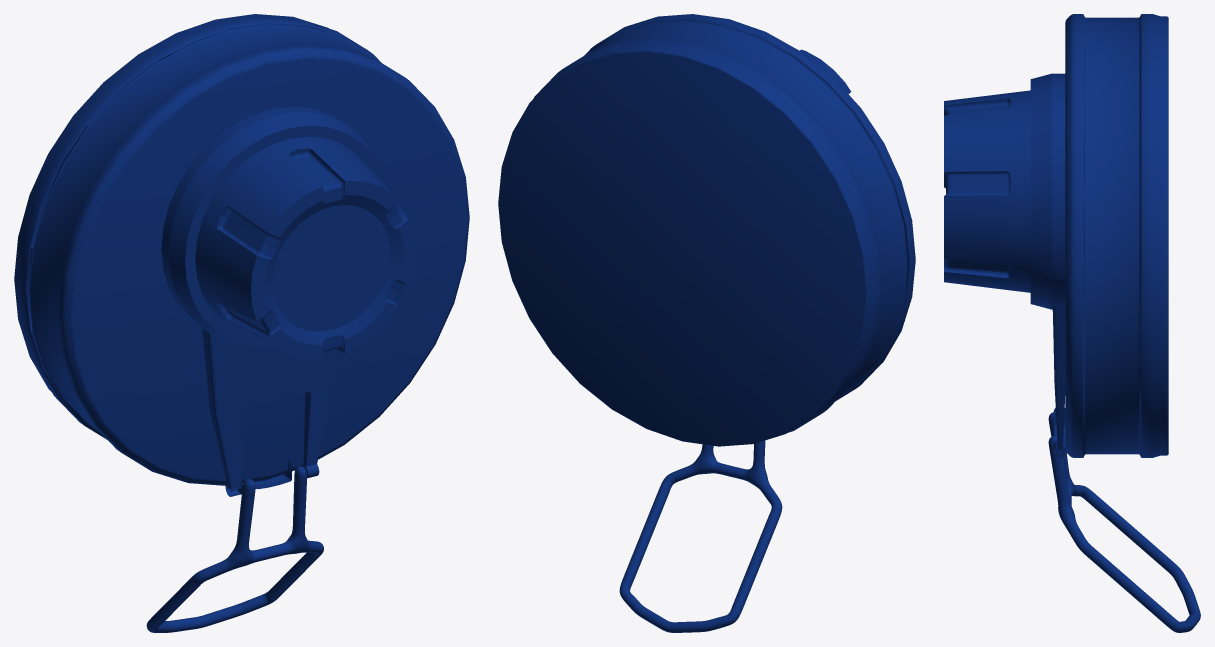
3 renders of one model, left to right at view 1: azimuth 30°, elevation 25°; view 2: azimuth 150°, elevation 25°; view 3: azimuth 270°, elevation 25°, orthographic. The views are drawn at different scales.
Size of the model in its own units: 0.3975 by 0.5787 by 0.2297.
